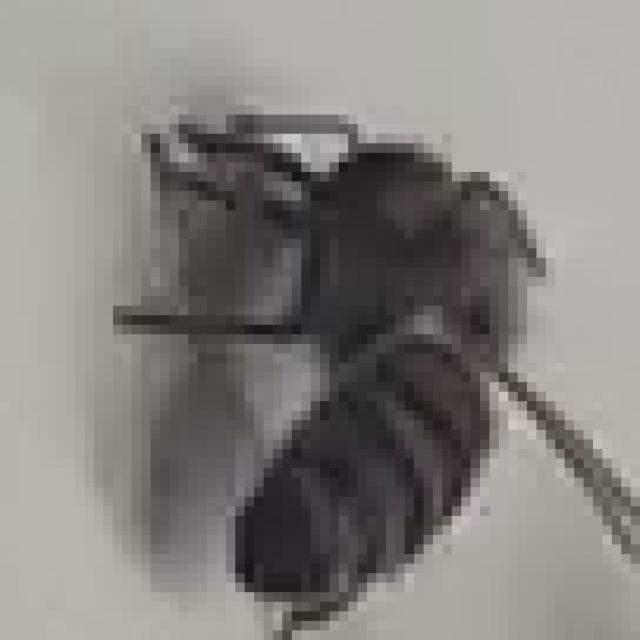honeybee: (115, 109, 614, 596)
